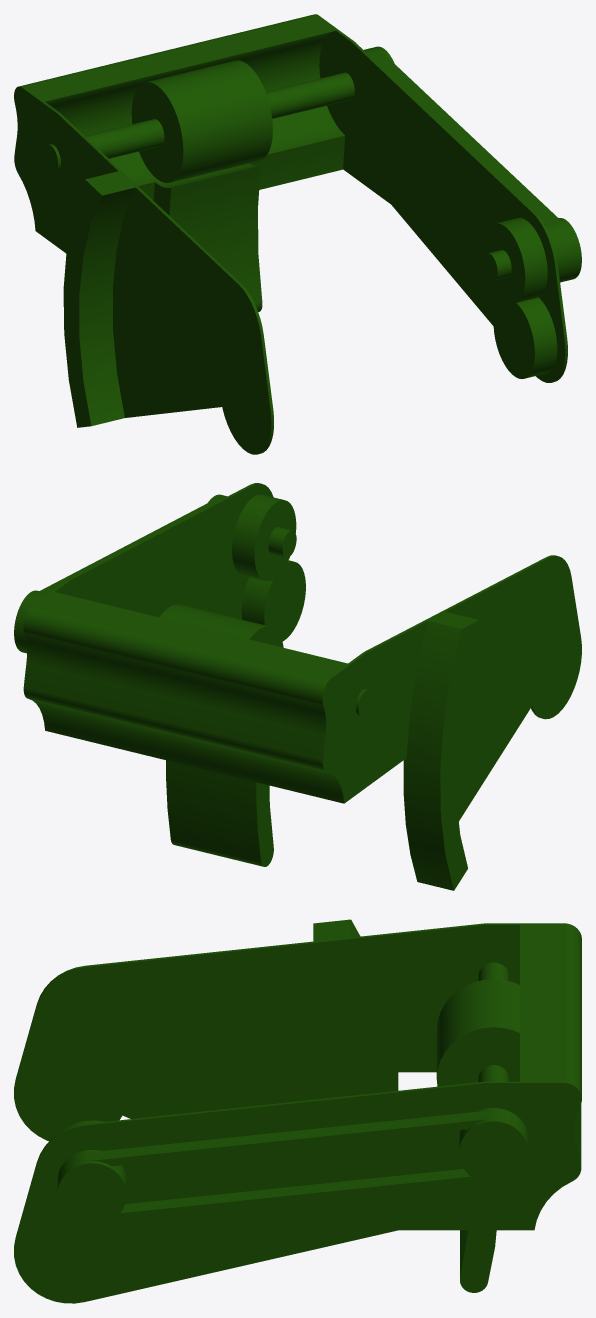
The picture shows the model from 3 angles, top to bottom: view 1: azimuth 30°, elevation 25°; view 2: azimuth 150°, elevation 25°; view 3: azimuth 270°, elevation 25°; orthographic projection. The views are drawn at different scales.
Visible parts, largest first — view 1: BLOCK CAD: Launcher Hood; view 2: BLOCK CAD: Launcher Hood; view 3: BLOCK CAD: Launcher Hood.
Boxes of the visible parts, left/top/right/bottom form: BLOCK CAD: Launcher Hood: left=14, top=14, right=581, bottom=454; BLOCK CAD: Launcher Hood: left=14, top=483, right=581, bottom=890; BLOCK CAD: Launcher Hood: left=14, top=919, right=581, bottom=1303.
Size of the model in its own units: 0.2064 by 0.1447 by 0.2528.
